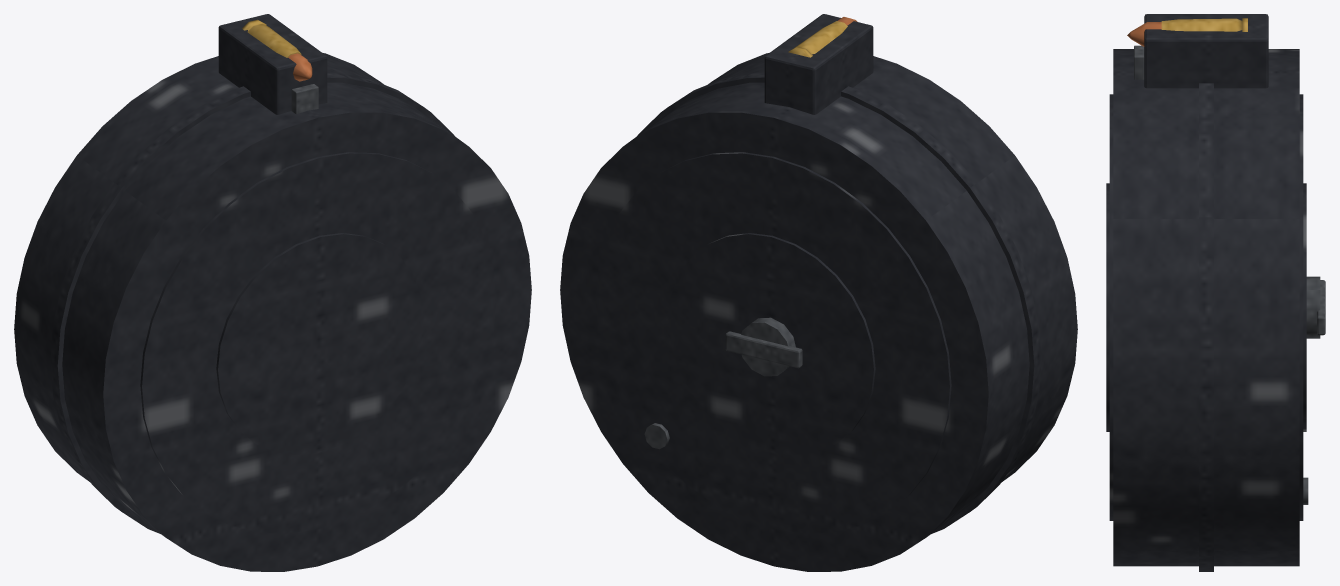
Rendered from mag_ppsh.glb.
3 views of the same model, side by side, from view 1: azimuth 30°, elevation 25°; view 2: azimuth 150°, elevation 25°; view 3: azimuth 270°, elevation 25° (orthographic). The views are drawn at different scales.
Visible parts, largest first — view 1: mag_ppsh; view 2: mag_ppsh; view 3: mag_ppsh.
Part boxes in pixels (<box>): mag_ppsh: <box>14,14,531,571</box>; mag_ppsh: <box>560,14,1077,571</box>; mag_ppsh: <box>1106,14,1325,571</box>.
Bounding box in the file's own units: 0.1532 × 0.1684 × 0.0635.
Materials: 4 (4 with a texture image).
